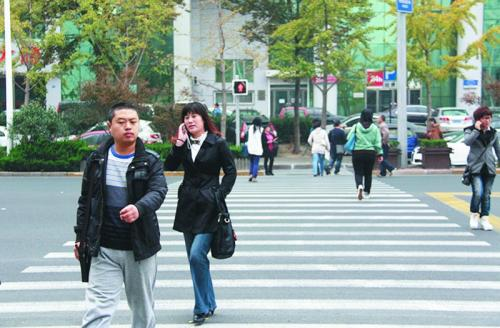no_mask: (103, 102, 140, 148), (178, 104, 209, 139), (471, 107, 493, 131)
